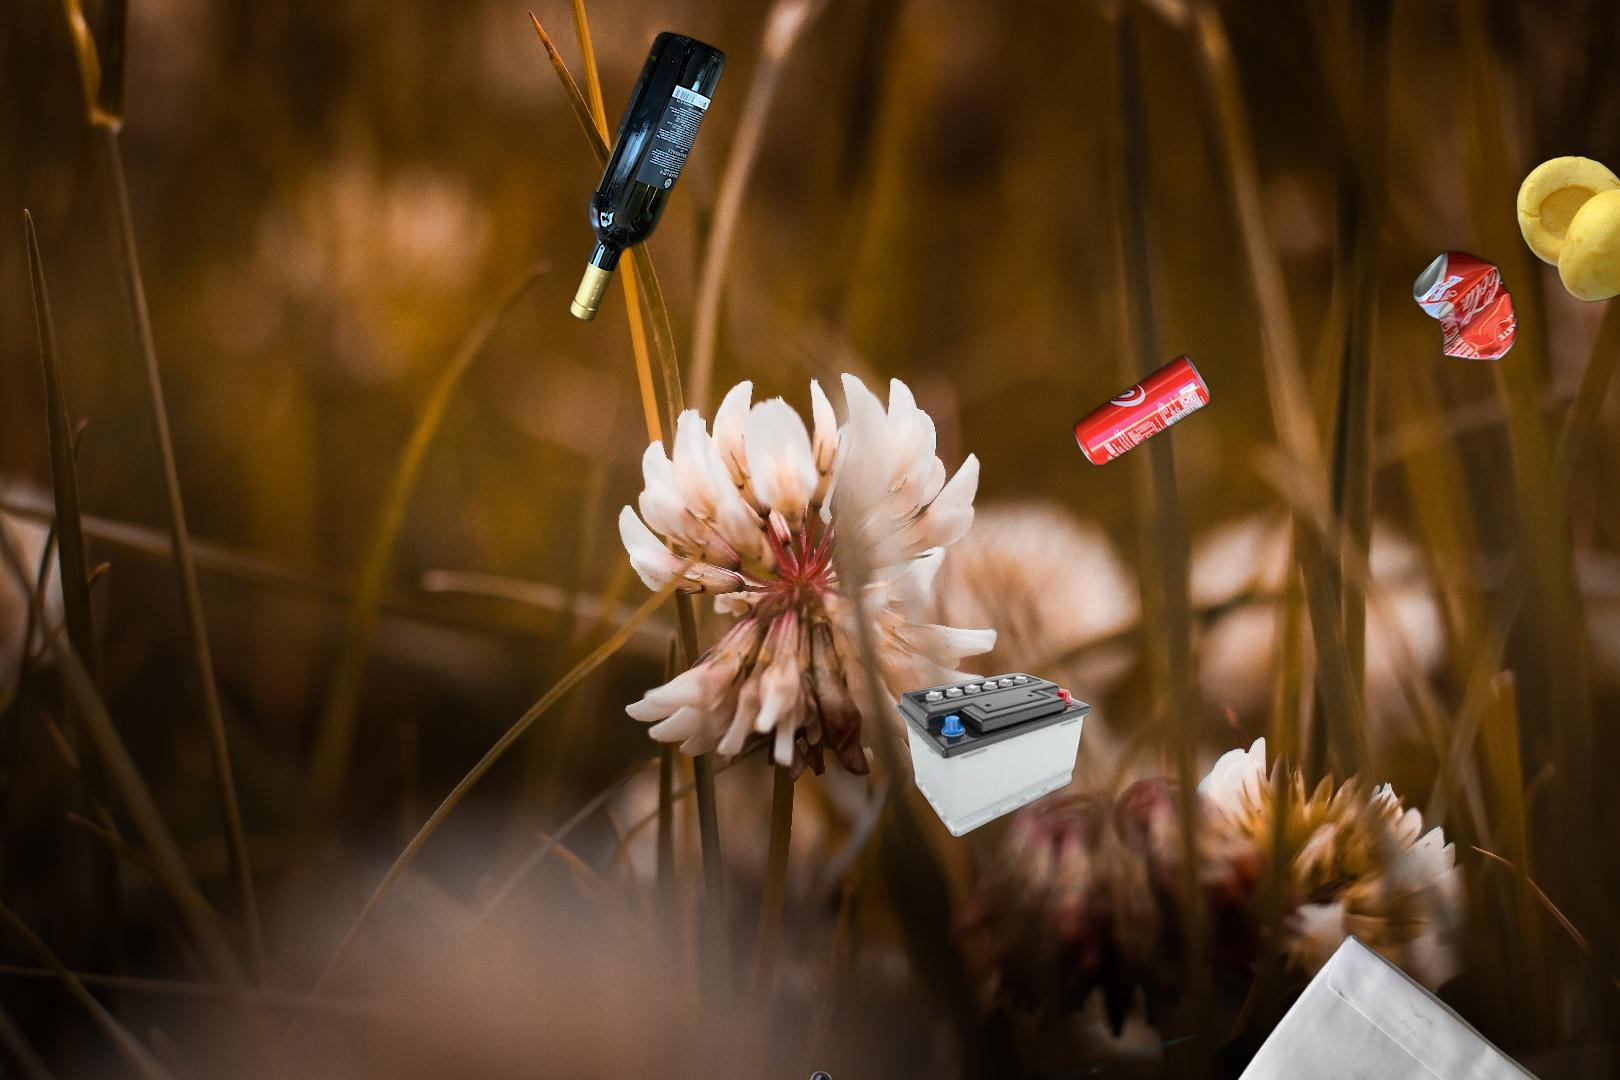battery: (894, 670, 1094, 840)
biological: (1512, 153, 1620, 322)
glass: (567, 25, 730, 327)
metal-cans: (1070, 348, 1215, 472), (1408, 245, 1524, 366)
paper: (1229, 931, 1620, 1080)
penholder: (636, 1019, 1211, 1080)
